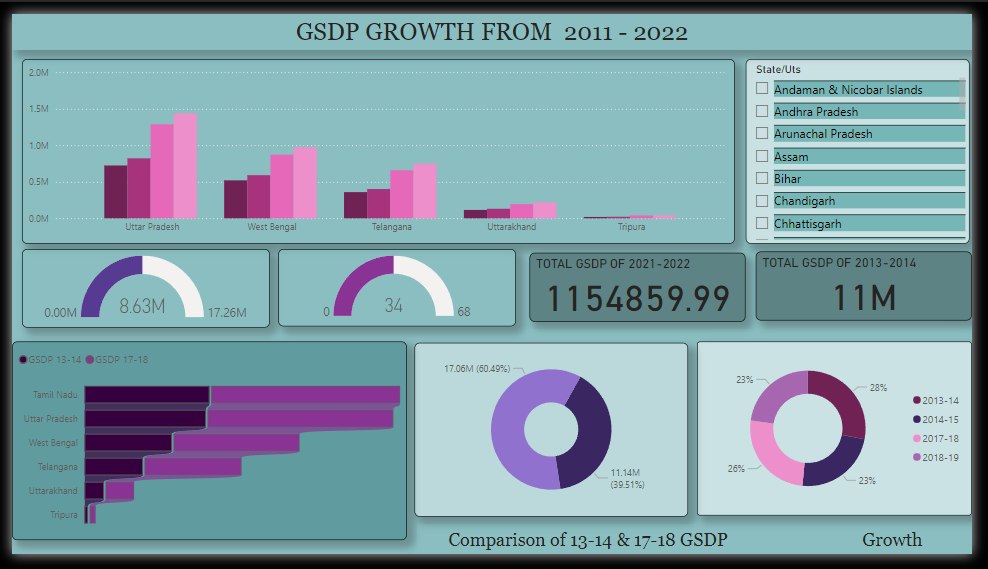

The page's visual inventory and layout, read from the dashboard file:
{"tool":"powerbi","page":{"name":"Page 1","canvas":[1280,720],"ordinal":0},"visuals":[{"type":"slicer","fields":{"Values":["GSDP From 2011-22.State/Uts"]},"box":[978.3,60,298.3,246.7],"z":0},{"type":"lineClusteredColumnComboChart","fields":{"Y":["Sum(GSDP From 2011-22.GSDP-Curr-2011-12(Cr))","Sum(GSDP From 2011-22.GSDP-Curr-2012-13(Cr))","Sum(GSDP From 2011-22.GSDP-Curr-2016-17(Cr))","Sum(GSDP From 2011-22.GSDP-Curr-2017-18(Cr))"],"Category":["GSDP From 2011-22.State/Uts"]},"box":[13.3,60,950,246.7],"z":1000},{"type":"donutChart","fields":{"Y":["Sum(GSDP From 2011-22.% Growth2013-14)","Sum(GSDP From 2011-22.% Growth2014-15)","Sum(GSDP From 2011-22.% Growth2017-18)","Sum(GSDP From 2011-22.% Growth2018-19)"]},"box":[913.3,436.7,366.7,231.7],"z":2000},{"type":"barChart","fields":{"Category":["GSDP From 2011-22.State/Uts"],"Y":["Sum(GSDP From 2011-22.GSDP-Curr-2013-14(Cr))","Sum(GSDP From 2011-22.GSDP-Curr-2017-18(Cr))"]},"box":[0,436.7,526.7,265],"z":3000},{"type":"textbox","box":[548.3,681.7,705,38.3],"z":4000},{"type":"gauge","title":"GSDP 2011-2012","fields":{"Y":["Sum(GSDP From 2011-22.GSDP-Curr-2011-12(Cr))"]},"box":[13.3,313.3,330,105],"z":5000},{"type":"donutChart","title":"COMPARISION OF 13-14 & 17-18","fields":{"Y":["Sum(GSDP From 2011-22.GSDP-Curr-2013-14(Cr))","Sum(GSDP From 2011-22.GSDP-Curr-2017-18(Cr))"]},"box":[536.7,438.3,365,231.7],"z":6000},{"type":"gauge","title":"GSDP 2021-2022","fields":{"Y":["CountNonNull(GSDP From 2011-22.GSDP-Curr-2021-22(Cr))"]},"box":[355,313.3,316.7,103.3],"z":7000},{"type":"card","title":"TOTAL GSDP OF 2021-2022","fields":{"Values":["Min(GSDP From 2011-22.GSDP-Curr-2021-22(Cr))"]},"box":[690,318.3,288.3,91.7],"z":8000},{"type":"card","title":"TOTAL GSDP OF 2013-2014","fields":{"Values":["Sum(GSDP From 2011-22.GSDP-Curr-2013-14(Cr))"]},"box":[991.7,316.7,288.3,91.7],"z":9000},{"type":"textbox","box":[0,0,1280,48.3],"z":10000}]}

Visuals, with their boxes in screenshot pixels (x1, y1, x2, y2), scaled from the page's 1280x720 canvas onto the 988x569 screenshot:
slicer - GSDP From 2011-22.State/Uts: {"x1": 755, "y1": 47, "x2": 985, "y2": 242}
lineClusteredColumnComboChart - Sum(GSDP From 2011-22.GSDP-Curr-2011-12(Cr)) x Sum(GSDP From 2011-22.GSDP-Curr-2012-13(Cr)): {"x1": 10, "y1": 47, "x2": 744, "y2": 242}
donutChart - Sum(GSDP From 2011-22.% Growth2013-14) x Sum(GSDP From 2011-22.% Growth2014-15): {"x1": 705, "y1": 345, "x2": 987, "y2": 528}
barChart - GSDP From 2011-22.State/Uts x Sum(GSDP From 2011-22.GSDP-Curr-2013-14(Cr)): {"x1": 0, "y1": 345, "x2": 407, "y2": 555}
textbox: {"x1": 423, "y1": 539, "x2": 967, "y2": 568}
"GSDP 2011-2012" gauge: {"x1": 10, "y1": 248, "x2": 265, "y2": 331}
"COMPARISION OF 13-14 & 17-18" donutChart: {"x1": 414, "y1": 346, "x2": 696, "y2": 529}
"GSDP 2021-2022" gauge: {"x1": 274, "y1": 248, "x2": 518, "y2": 329}
"TOTAL GSDP OF 2021-2022" card: {"x1": 533, "y1": 252, "x2": 755, "y2": 324}
"TOTAL GSDP OF 2013-2014" card: {"x1": 765, "y1": 250, "x2": 987, "y2": 323}
textbox: {"x1": 0, "y1": 0, "x2": 987, "y2": 38}
